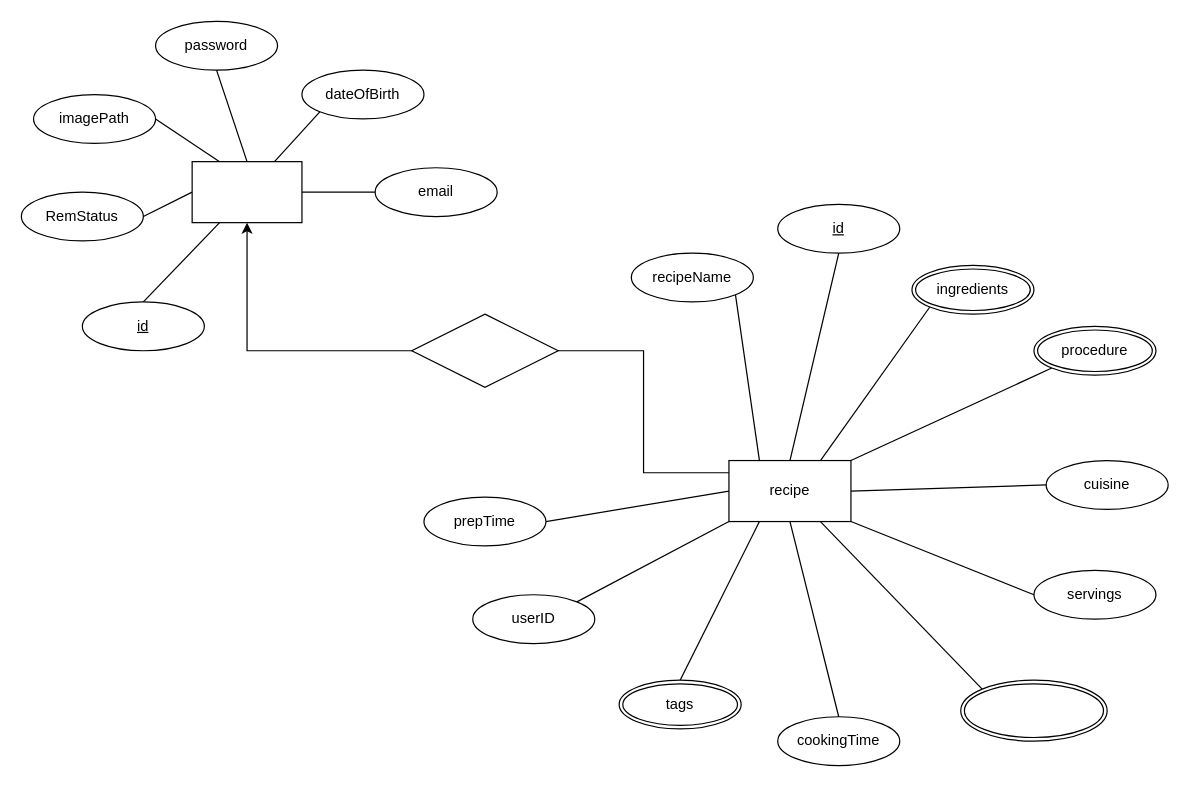
The diagram is 1190 pixels wide and 787 high, and some of its shapes have lost their labels. The box of each missing label's shape, as (x1, y1, x2, y2) in pixels:
allergyWarning: (960, 679, 1107, 741)
has: (411, 313, 558, 387)
user: (191, 160, 302, 223)
